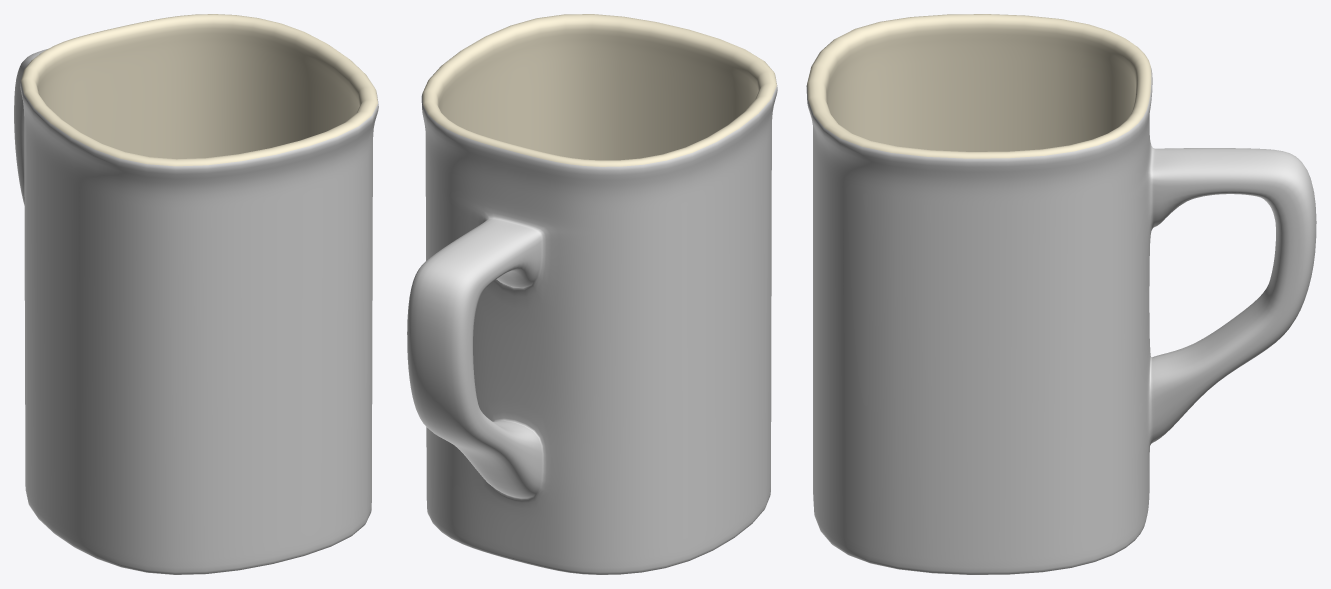
File: nescafe_mug.fbx
3 renders of one model, left to right at view 1: azimuth 30°, elevation 25°; view 2: azimuth 150°, elevation 25°; view 3: azimuth 270°, elevation 25°, orthographic. The views are drawn at different scales.
Visible parts, largest first — view 1: mug; view 2: mug; view 3: mug.
Boxes of the visible parts, x1,y1,x2,y2 form: mug: (14,14,378,574); mug: (407,14,777,574); mug: (806,14,1316,574).
Bounding box in the file's own units: 6.84 × 9.33 × 10.21.
